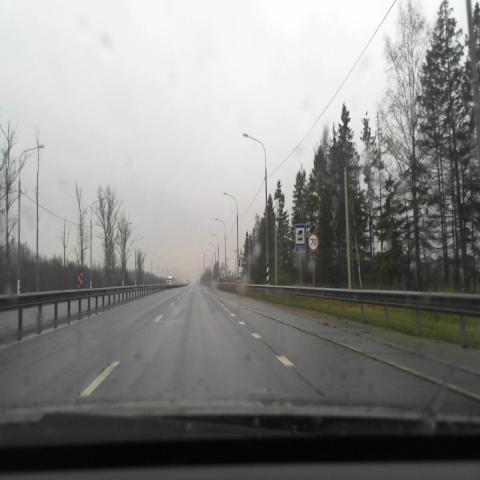7_14: (294, 223, 306, 253)
